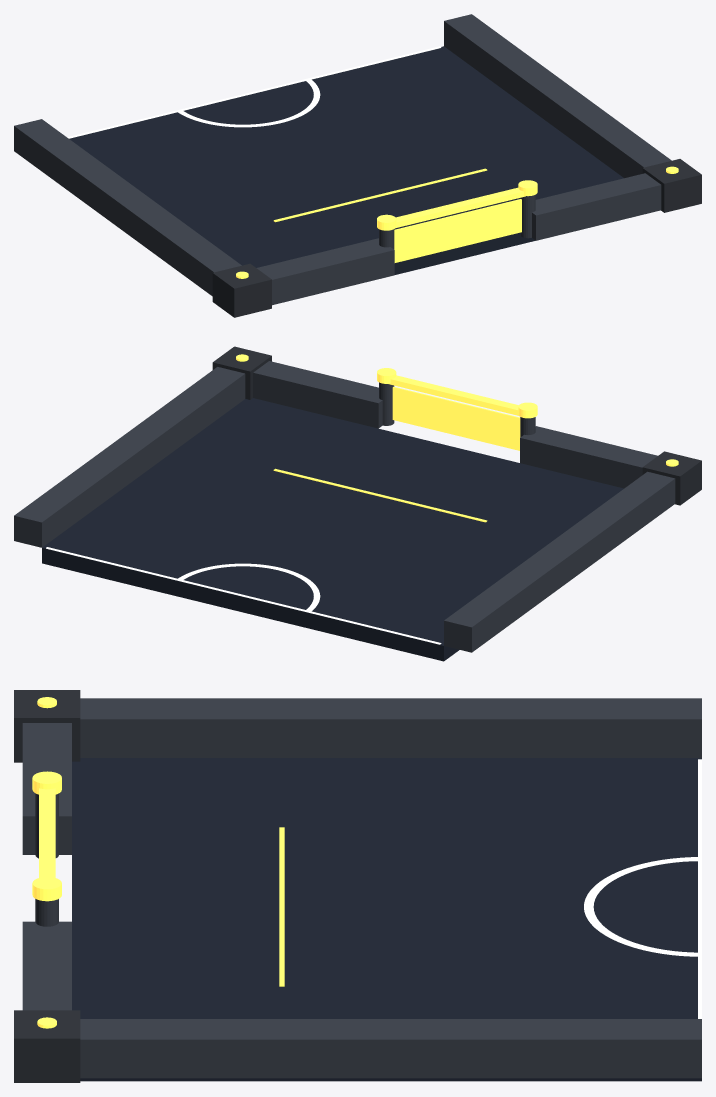
Rendered from mesa_arcade_half_p2.glb.
3 views of the same model, one above another, from view 1: azimuth 30°, elevation 25°; view 2: azimuth 150°, elevation 25°; view 3: azimuth 270°, elevation 25° (orthographic). The views are drawn at different scales.
Visible parts, largest first — view 1: MesaArcadeHalfP2_Surface, MesaArcadeHalfP2_RailL, MesaArcadeHalfP2_RailR, Cube.004, Cube.002, Cube.009, Cube.006, Cube.007, Cube.008, MesaArcadeHalfP2_TopEdgeLaser, MesaArcadeHalfP2_CenterArcOuter, MesaArcadeHalfP2_Crease (+1 smaller); view 2: MesaArcadeHalfP2_Surface, MesaArcadeHalfP2_RailL, MesaArcadeHalfP2_RailR, Cube.004, Cube.002, Cube.009, Cube.006, Cube.008, Cube.007, MesaArcadeHalfP2_TopEdgeLaser, MesaArcadeHalfP2_CenterArcOuter, MesaArcadeHalfP2_Crease (+1 smaller); view 3: MesaArcadeHalfP2_Surface, MesaArcadeHalfP2_RailL, MesaArcadeHalfP2_RailR, Cube.007, Cube.002, Cube.004, Cube.006, MesaArcadeHalfP2_CenterArcOuter, Cube.008, MesaArcadeHalfP2_TopEdgeLaser, MesaArcadeHalfP2_Crease, Cylinder.005 (+1 smaller).
Boxes of the visible parts, bbox=[...] form: MesaArcadeHalfP2_Surface: bbox=[69, 46, 623, 274]; MesaArcadeHalfP2_RailL: bbox=[14, 119, 241, 296]; MesaArcadeHalfP2_RailR: bbox=[444, 14, 671, 178]; Cube.004: bbox=[532, 173, 661, 240]; Cube.002: bbox=[256, 238, 394, 305]; Cube.009: bbox=[394, 199, 521, 262]; Cube.006: bbox=[212, 263, 271, 317]; Cube.007: bbox=[642, 159, 701, 212]; Cube.008: bbox=[395, 187, 525, 228]; MesaArcadeHalfP2_TopEdgeLaser: bbox=[67, 46, 441, 138]; MesaArcadeHalfP2_CenterArcOuter: bbox=[178, 79, 320, 127]; MesaArcadeHalfP2_Crease: bbox=[273, 168, 487, 222]; MesaArcadeHalfP2_Surface: bbox=[42, 398, 623, 661]; MesaArcadeHalfP2_RailL: bbox=[444, 471, 675, 652]; MesaArcadeHalfP2_RailR: bbox=[14, 367, 245, 547]; Cube.004: bbox=[253, 361, 382, 428]; Cube.002: bbox=[520, 426, 657, 488]; Cube.009: bbox=[392, 386, 520, 450]; Cube.006: bbox=[642, 451, 701, 505]; Cube.008: bbox=[389, 375, 518, 415]; Cube.007: bbox=[212, 346, 271, 399]; MesaArcadeHalfP2_TopEdgeLaser: bbox=[46, 547, 441, 644]; MesaArcadeHalfP2_CenterArcOuter: bbox=[178, 563, 320, 611]; MesaArcadeHalfP2_Crease: bbox=[273, 468, 487, 522]; MesaArcadeHalfP2_Surface: bbox=[72, 758, 701, 1081]; MesaArcadeHalfP2_RailL: bbox=[80, 698, 701, 757]; MesaArcadeHalfP2_RailR: bbox=[80, 1019, 701, 1078]; Cube.007: bbox=[14, 1010, 80, 1082]; Cube.002: bbox=[22, 723, 71, 854]; Cube.004: bbox=[22, 921, 71, 1010]; Cube.006: bbox=[14, 690, 80, 762]; MesaArcadeHalfP2_CenterArcOuter: bbox=[584, 857, 697, 956]; Cube.008: bbox=[39, 788, 55, 877]; MesaArcadeHalfP2_TopEdgeLaser: bbox=[698, 759, 701, 1018]; MesaArcadeHalfP2_Crease: bbox=[279, 827, 284, 986]; Cylinder.005: bbox=[32, 877, 61, 901].
Bounding box in the file's own units: 1.26 × 0.17 × 1.05.
